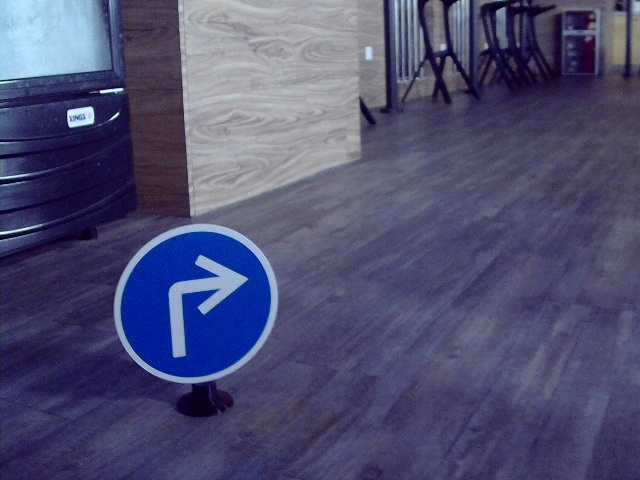turn_right: (155, 250, 248, 357)
